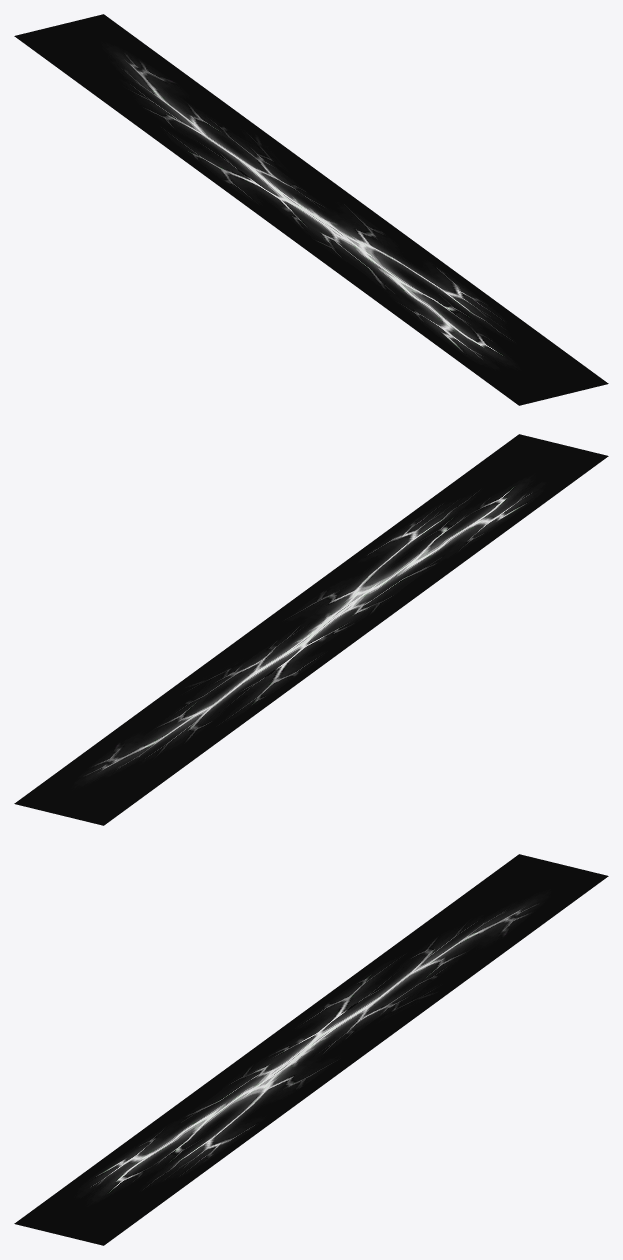
File: 0291_feitiantanglang_dilie_01.glb
3 views of the same model, one above another, from view 1: azimuth 30°, elevation 25°; view 2: azimuth 150°, elevation 25°; view 3: azimuth 330°, elevation 25° (orthographic).
Size of the model in its own units: 0.2258 by 0 by 2.2.
1 material, 1 textured.
